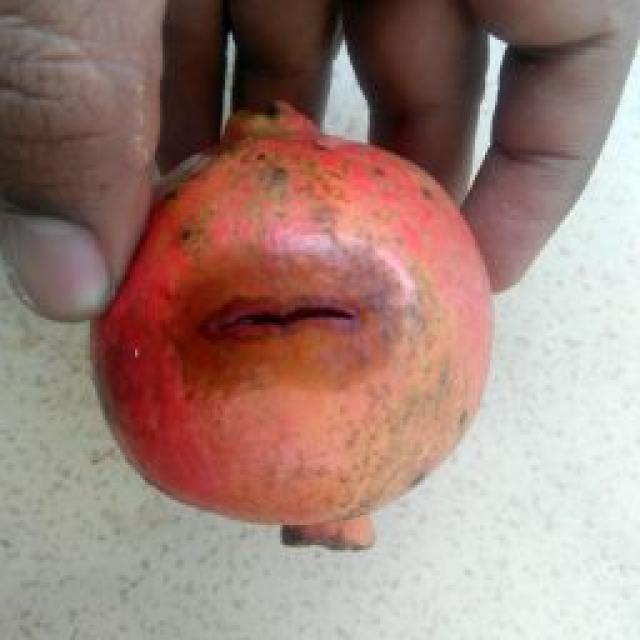overripe: (93, 103, 496, 559)
